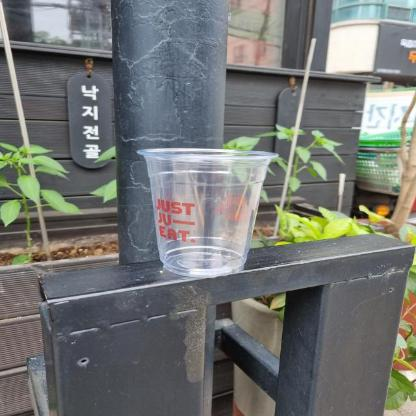Plastic Cup: (133, 145, 283, 283)
